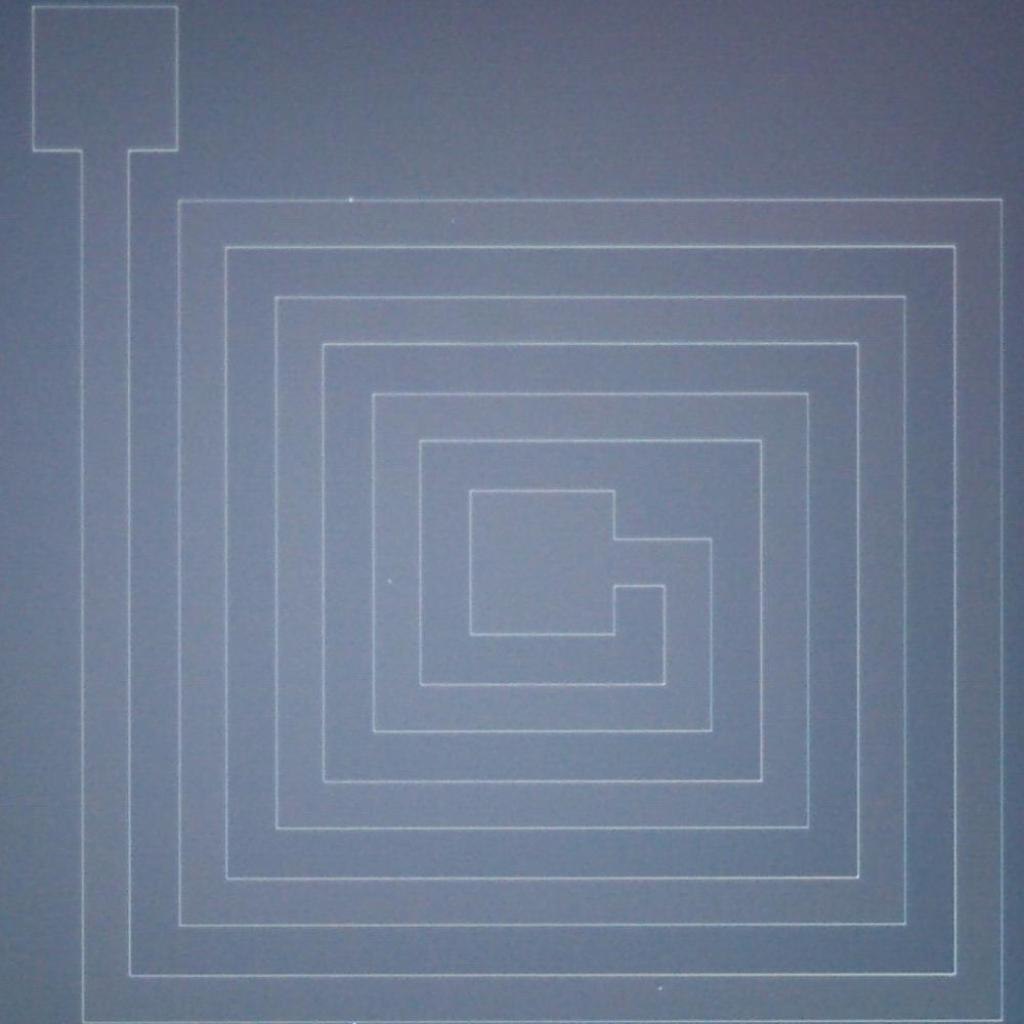dot: (450, 218, 456, 223), (348, 197, 353, 202), (388, 579, 392, 583), (659, 987, 663, 991)
